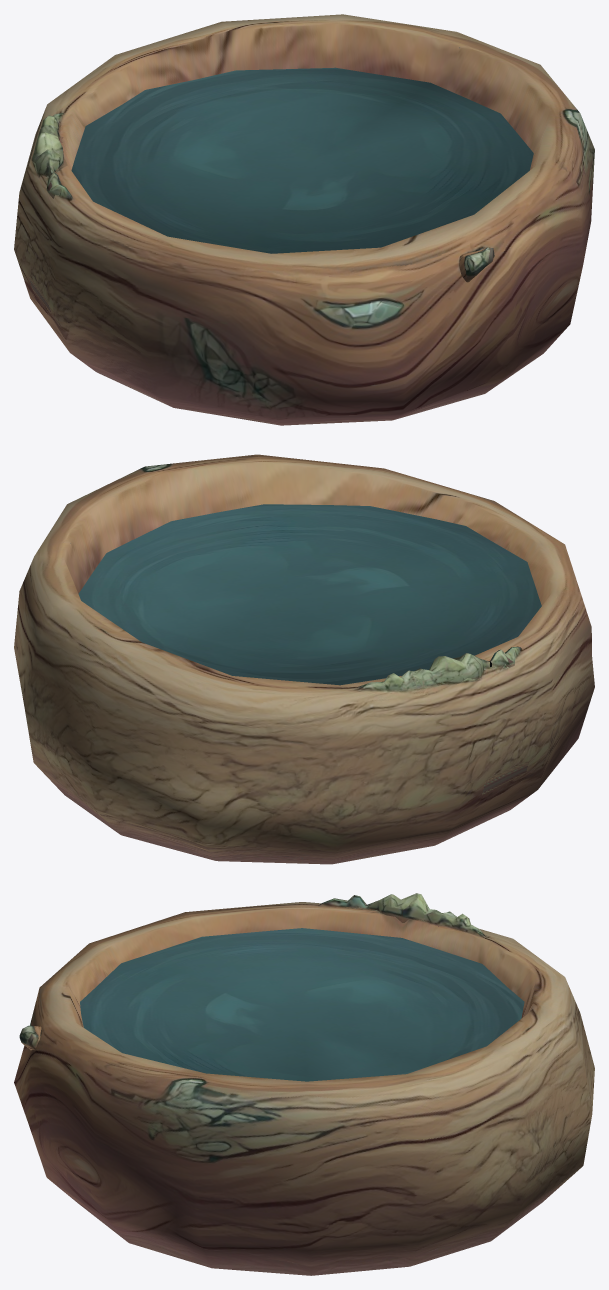
Rendered from Bath.glb.
3 renders of one model, top to bottom at view 1: azimuth 30°, elevation 25°; view 2: azimuth 150°, elevation 25°; view 3: azimuth 270°, elevation 25°, orthographic. The views are drawn at different scales.
Parts seen in each view (by area): view 1: Bath; view 2: Bath; view 3: Bath.
Part boxes in pixels (x1=…): Bath: x1=14, y1=14, x2=594, y2=425; Bath: x1=14, y1=454, x2=594, y2=864; Bath: x1=14, y1=893, x2=594, y2=1275.
Size of what is drawn, in the model's own units: 0.9415 by 0.3603 by 0.9885.
1 material, 1 textured.
